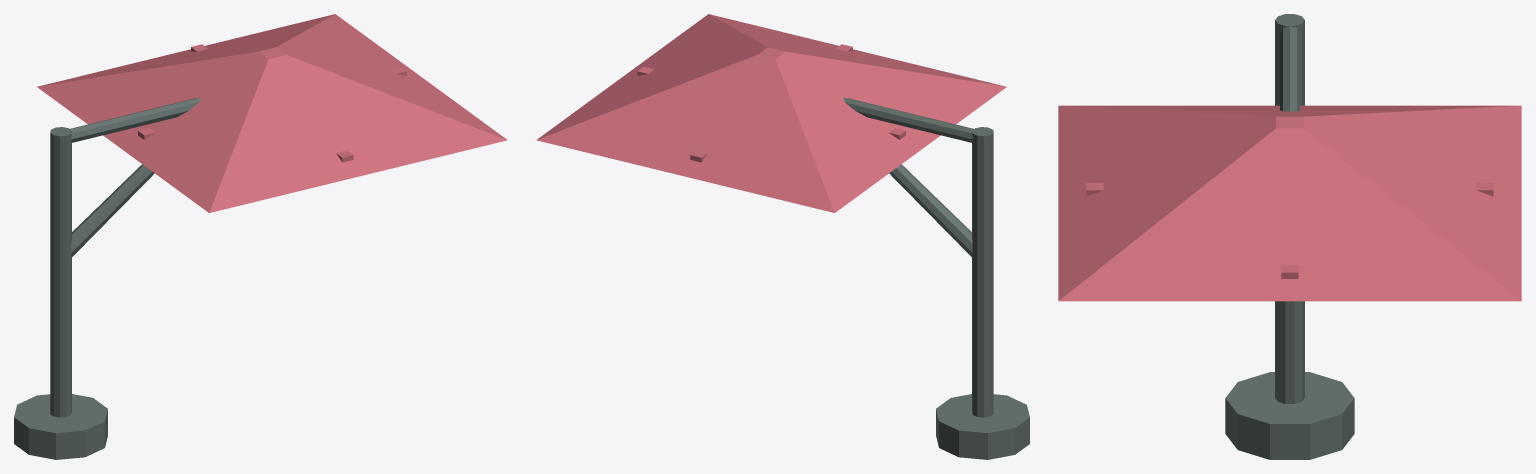
Rendered from cantilever-umbrella-identity.glb.
3 views of the same model, side by side, from view 1: azimuth 30°, elevation 25°; view 2: azimuth 150°, elevation 25°; view 3: azimuth 270°, elevation 25° (orthographic). The views are drawn at different scales.
Parts seen in each view (by area): view 1: cantilever-umbrella-red-identity, cantilever-umbrella-metal-identity; view 2: cantilever-umbrella-red-identity, cantilever-umbrella-metal-identity; view 3: cantilever-umbrella-red-identity, cantilever-umbrella-metal-identity.
Boxes of the visible parts, x1,y1,x2,y2 form: cantilever-umbrella-red-identity: (37,14,507,212); cantilever-umbrella-metal-identity: (14,97,200,459); cantilever-umbrella-red-identity: (536,14,1006,212); cantilever-umbrella-metal-identity: (843,97,1029,459); cantilever-umbrella-red-identity: (1058,105,1521,301); cantilever-umbrella-metal-identity: (1225,14,1354,459).
Size of the model in its own units: 1.25 by 1 by 0.9334.
